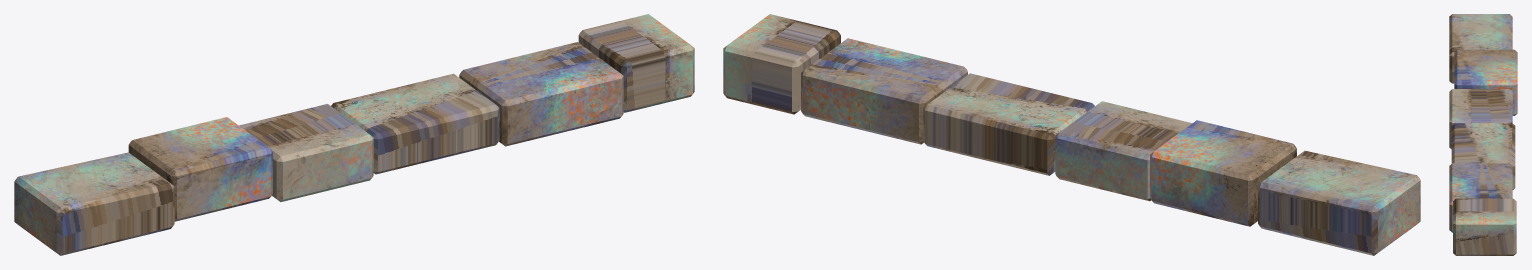
The model's file is SbS_Brick_A_01.fbx.
3 renders of one model, left to right at view 1: azimuth 30°, elevation 25°; view 2: azimuth 150°, elevation 25°; view 3: azimuth 270°, elevation 25°, orthographic. The views are drawn at different scales.
Parts seen in each view (by area): view 1: SbS_Brick_A_01; view 2: SbS_Brick_A_01; view 3: SbS_Brick_A_01.
Boxes of the visible parts, x1=… form: SbS_Brick_A_01: x1=14, y1=14, x2=694, y2=255; SbS_Brick_A_01: x1=723, y1=14, x2=1420, y2=255; SbS_Brick_A_01: x1=1449, y1=14, x2=1517, y2=255.
Size of the model in its own units: 511 by 41.64 by 69.51.
